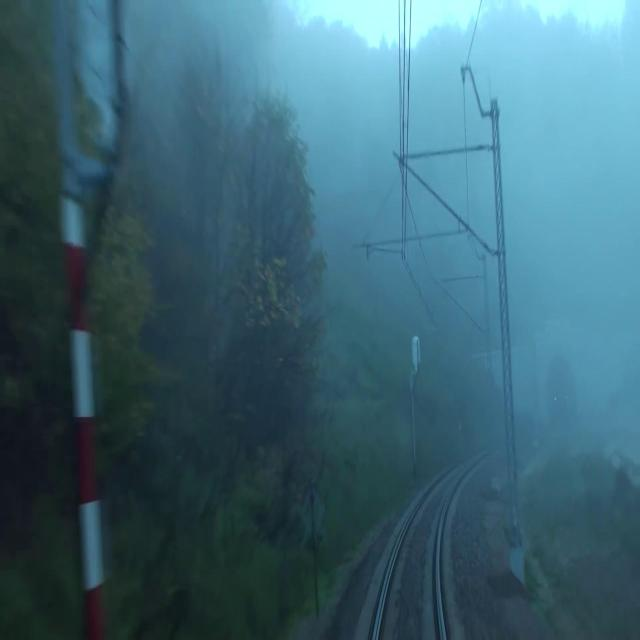rail-track: (382, 466, 465, 639)
